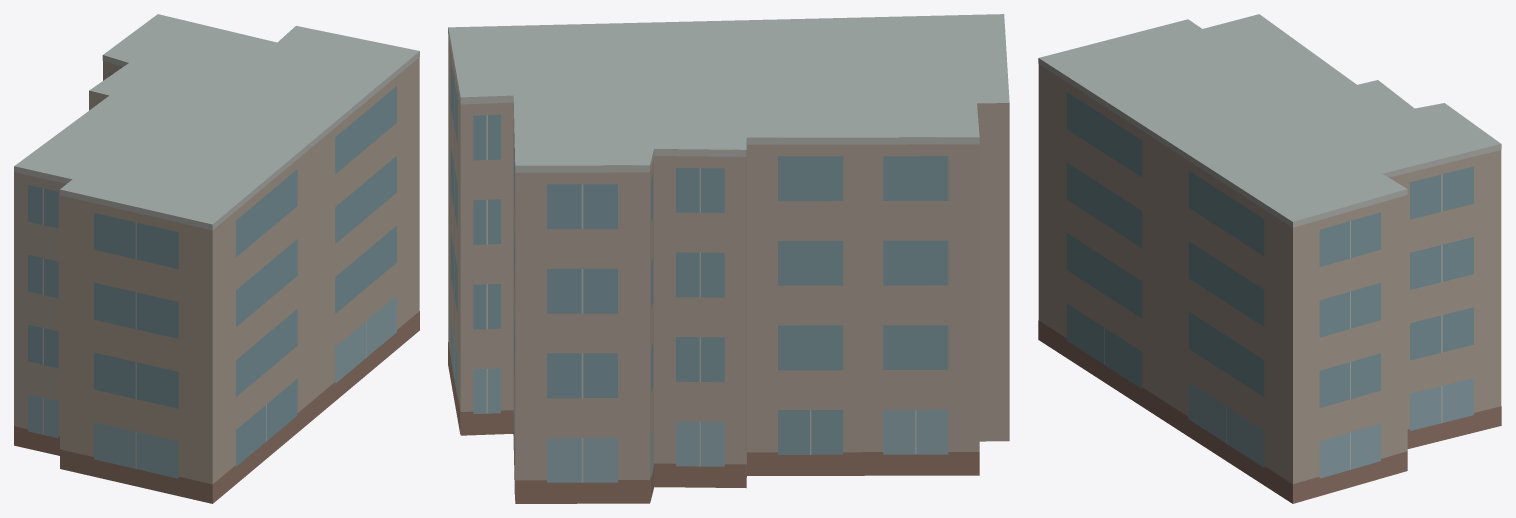
The model's file is survey-upis-32601448.glb.
The picture shows the model from 3 angles, left to right: view 1: azimuth 30°, elevation 25°; view 2: azimuth 150°, elevation 25°; view 3: azimuth 270°, elevation 25°; orthographic projection. The views are drawn at different scales.
Visible parts, largest first — view 1: survey-upis-32601448.tmp; view 2: survey-upis-32601448.tmp; view 3: survey-upis-32601448.tmp.
Part boxes in pixels (bbox=[...]): survey-upis-32601448.tmp: bbox=[14, 14, 419, 503]; survey-upis-32601448.tmp: bbox=[448, 14, 1009, 503]; survey-upis-32601448.tmp: bbox=[1038, 14, 1501, 503].
Size of the model in its own units: 18.52 by 11.7 by 17.42.
